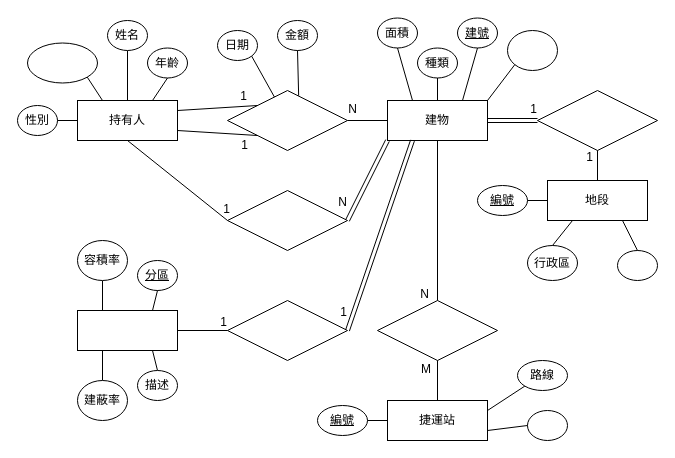
Image size: 675x458. Some labels were removed from this diagram. The shapes that lost their labels are listed below. From the top down, each one's centre as x and y in pixels, then its label:
At point 62,62: "身分證 字號".
At point 532,50: "建造 日期".
At point 287,120: "交易".
At point 597,120: "位於".
At point 287,220: "持有".
At point 637,265: "街道".
At point 127,330: "都市計畫分區".
At point 287,330: "屬於".
At point 437,330: "鄰近".
At point 547,425: "站名".
